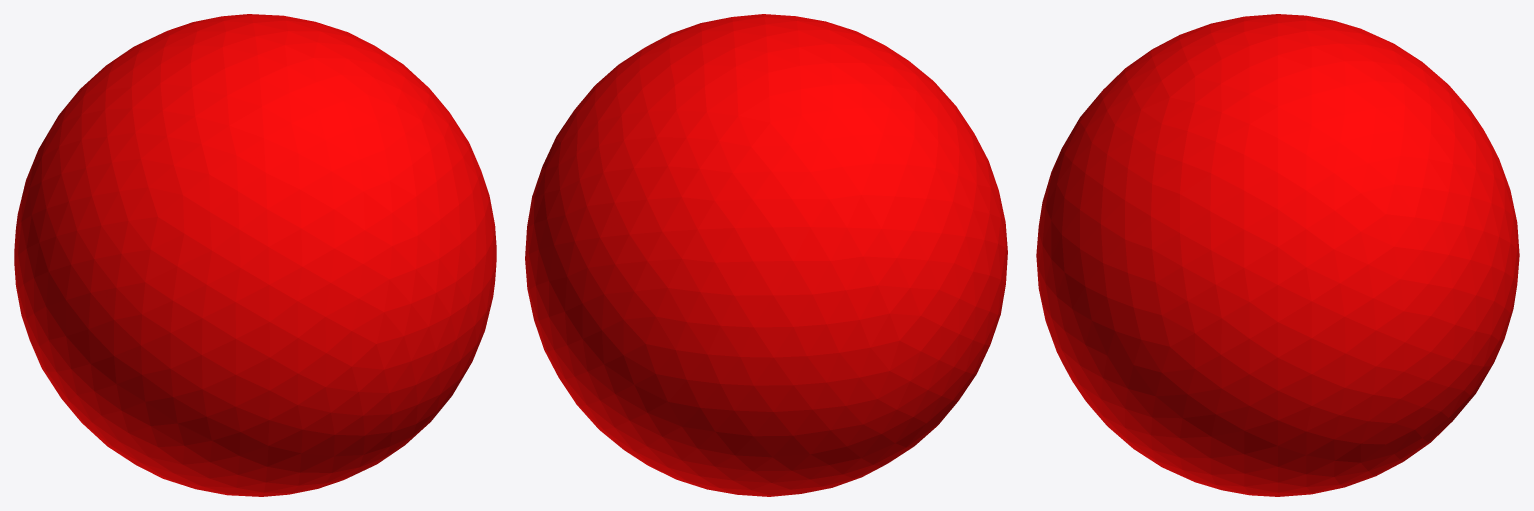
Rendered from spheres_highres.gltf.
The picture shows the model from 3 angles, left to right: view 1: azimuth 30°, elevation 25°; view 2: azimuth 150°, elevation 25°; view 3: azimuth 270°, elevation 25°; orthographic projection.
Visible parts, largest first — view 1: outer1280; view 2: outer1280; view 3: outer1280.
Boxes of the visible parts, x1,y1,x2,y2 form: outer1280: [14, 14, 496, 496]; outer1280: [525, 14, 1007, 496]; outer1280: [1036, 14, 1519, 496].
Bounding box in the file's own units: 2 × 2 × 2.
